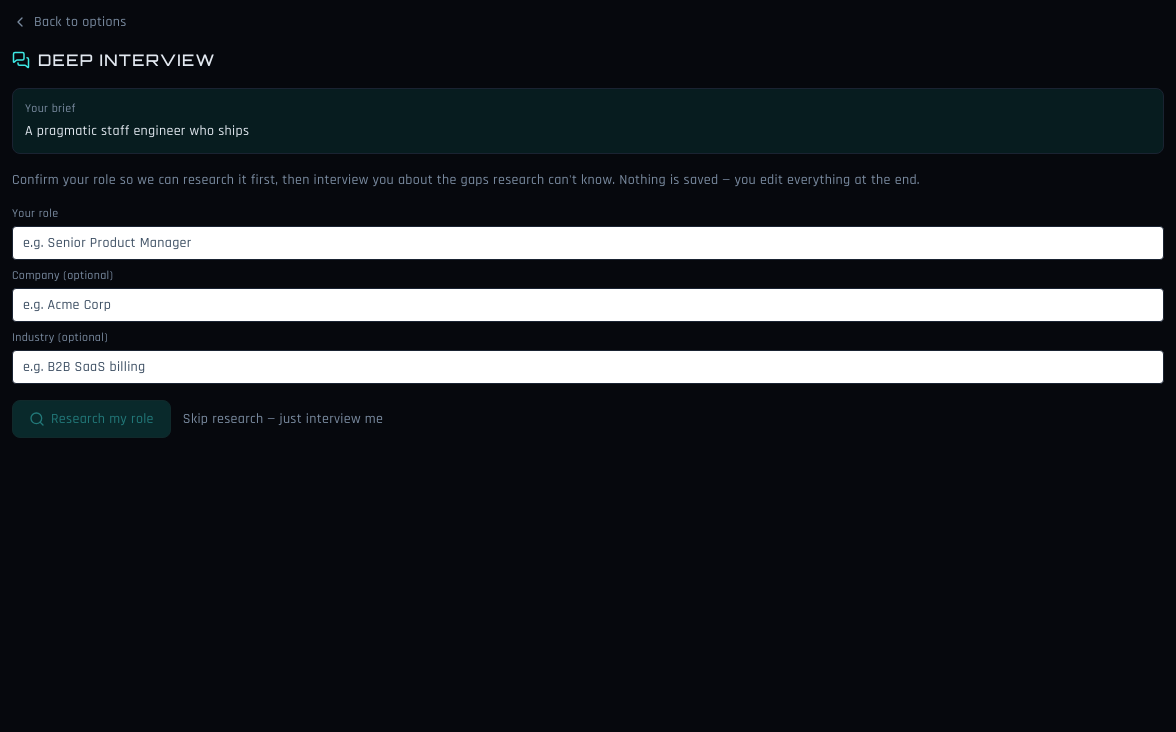
Test case: DeepInterviewPanel — cloud role research (step 2) › discloses the brief that is ALSO sent to the cloud provider (defect #2)
Type "PM" into the field labelled "Your role" at x=588, y=243, box [12,226,1164,260]
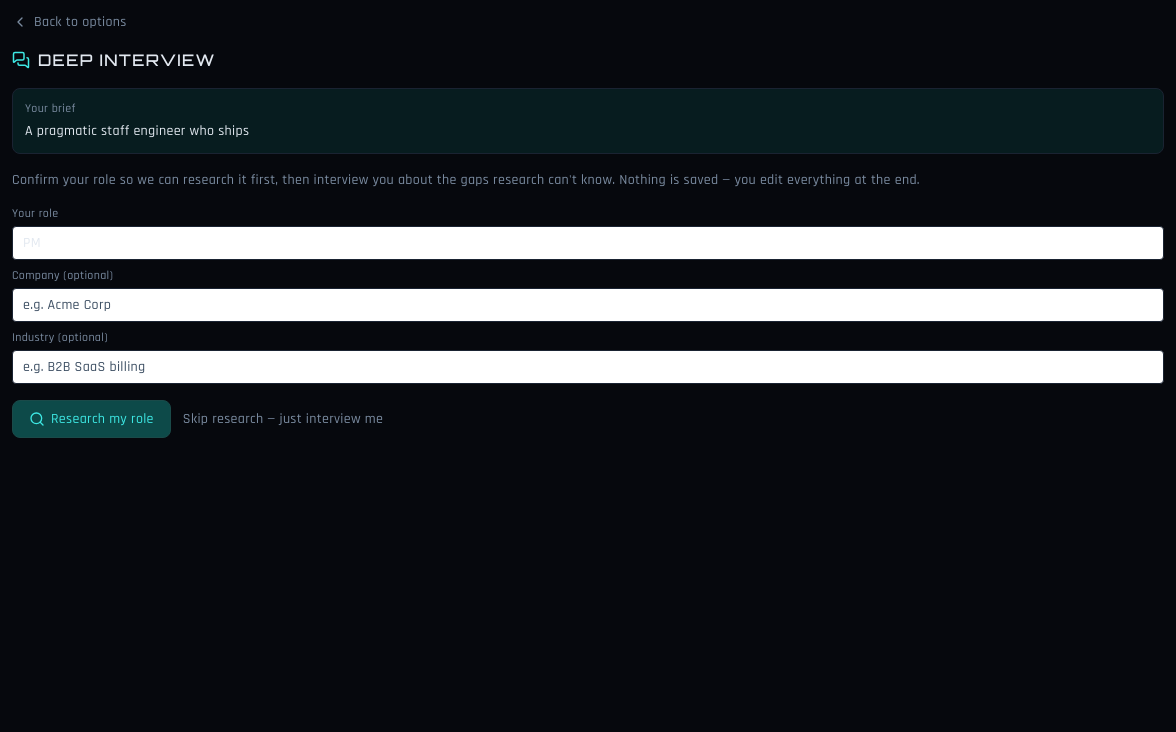
Click the button "Research my role" at x=91, y=419, box [12,400,171,438]
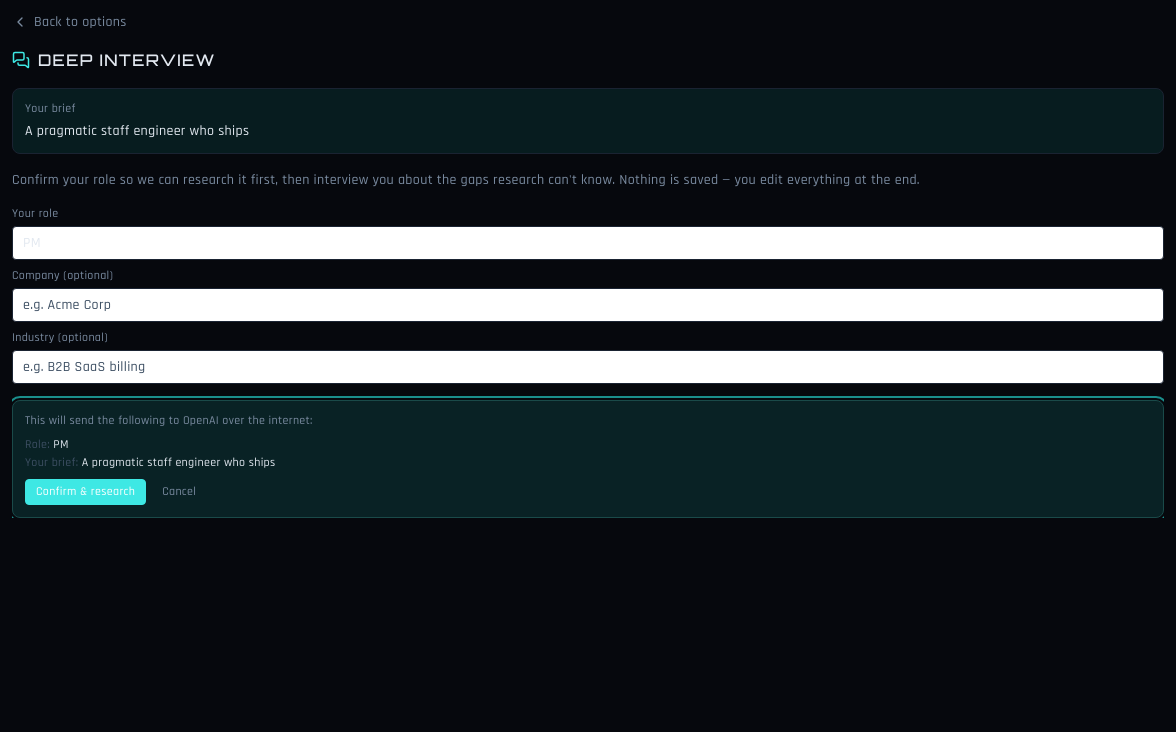
Check: the element named "confirm role research" shows "Your brief", box [25,455,78,470]
Check: the element named "confirm role research" shows "A pragmatic staff engineer who ships", box [82,455,276,470]
